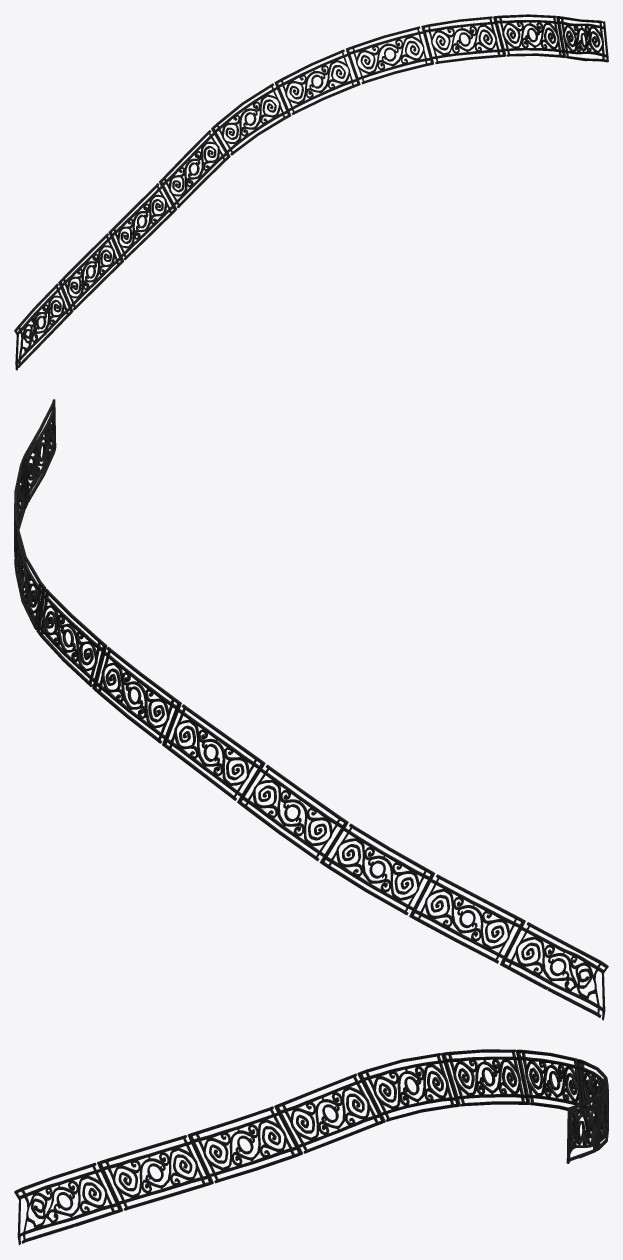
Rendered from Railing10.fbx.
3 renders of one model, top to bottom at view 1: azimuth 30°, elevation 25°; view 2: azimuth 150°, elevation 25°; view 3: azimuth 330°, elevation 25°, orthographic. The views are drawn at different scales.
Visible parts, largest first — view 1: railing10; view 2: railing10; view 3: railing10.
Boxes of the visible parts, x1=… form: railing10: x1=14, y1=14, x2=608, y2=370; railing10: x1=14, y1=399, x2=608, y2=1020; railing10: x1=14, y1=1049, x2=608, y2=1245.
Size of the model in its own units: 26.91 by 14.56 by 11.04.
